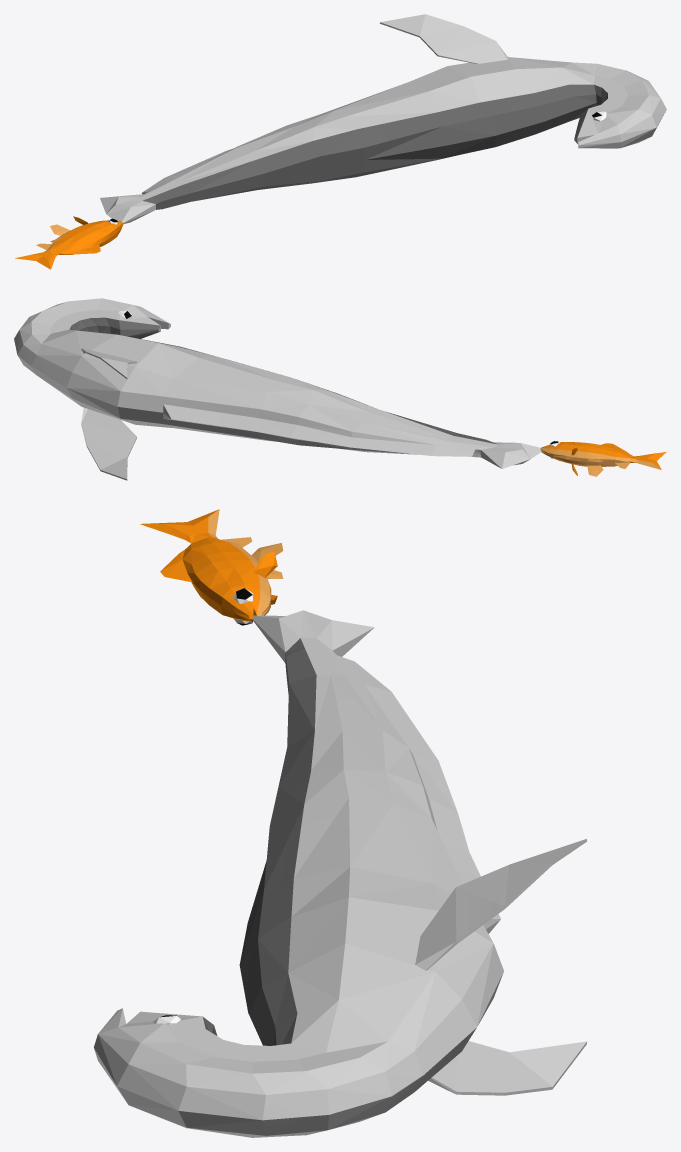
Rendered from SengaratDrip.glb.
3 views of the same model, one above another, from view 1: azimuth 30°, elevation 25°; view 2: azimuth 150°, elevation 25°; view 3: azimuth 270°, elevation 25° (orthographic). The views are drawn at different scales.
Visible parts, largest first — view 1: SengaratDrip; view 2: SengaratDrip; view 3: SengaratDrip.
Boxes of the visible parts, x1,y1,x2,y2 form: SengaratDrip: (15,14,666,269); SengaratDrip: (14,298,666,480); SengaratDrip: (94,509,587,1137).
Bounding box in the file's own units: 1.29 × 0.2232 × 0.4388.
1 material, 1 textured.
